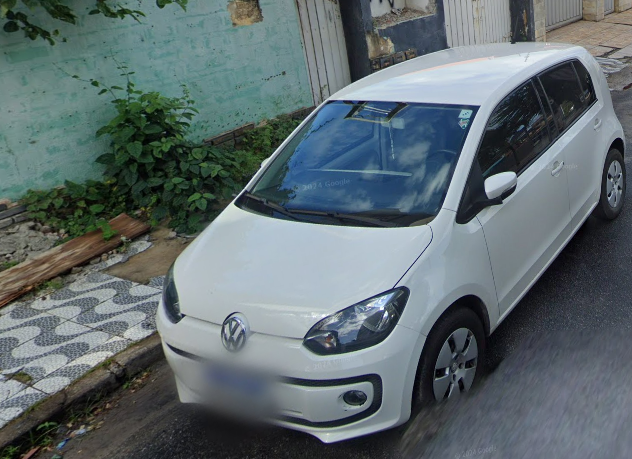car: (158, 42, 627, 439)
